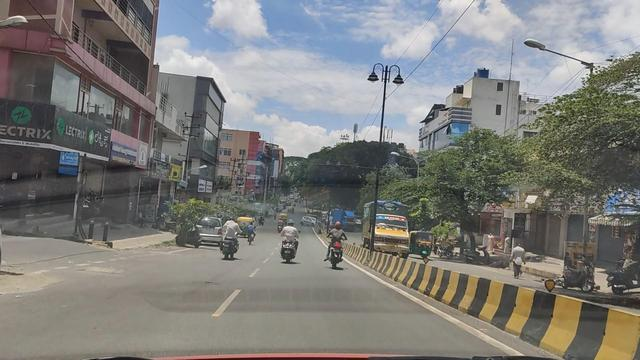LMV: (273, 213, 305, 267), (317, 226, 350, 270), (223, 206, 246, 268)
RoadDamages: (7, 250, 140, 319)
